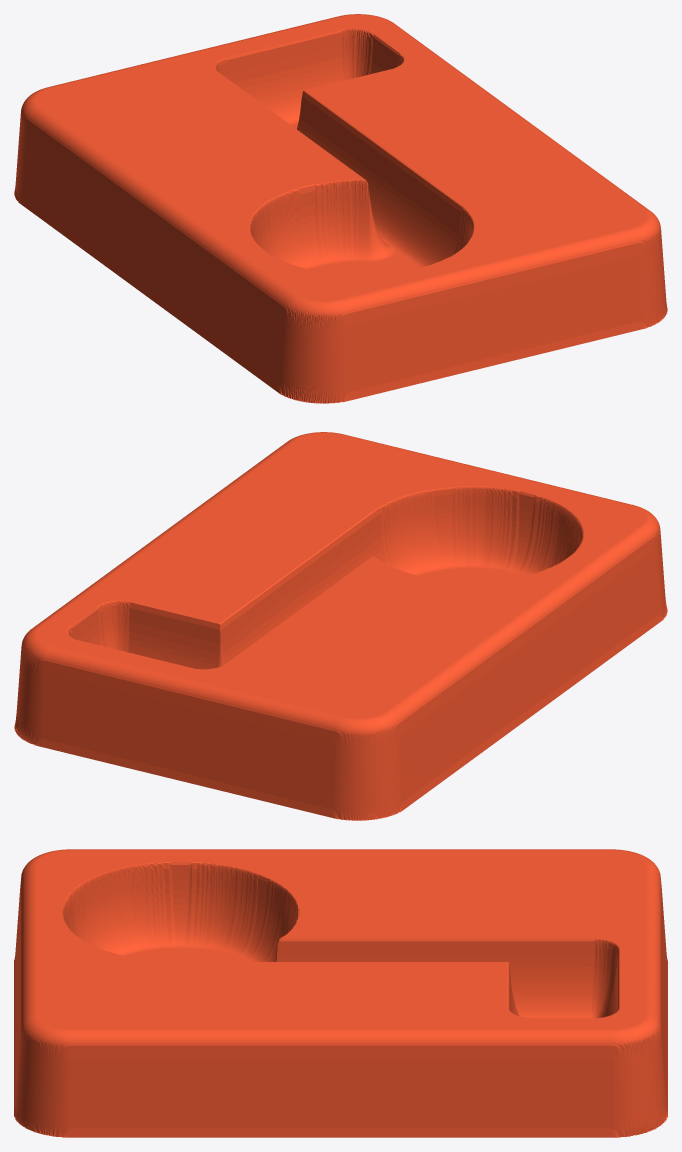
The model's file is mold.glb.
The picture shows the model from 3 angles, top to bottom: view 1: azimuth 30°, elevation 25°; view 2: azimuth 150°, elevation 25°; view 3: azimuth 270°, elevation 25°; orthographic projection. The views are drawn at different scales.
Visible parts, largest first — view 1: geometry_0; view 2: geometry_0; view 3: geometry_0.
Boxes of the visible parts, bbox=[...] form: geometry_0: bbox=[14, 14, 667, 403]; geometry_0: bbox=[14, 432, 667, 820]; geometry_0: bbox=[14, 849, 667, 1137].
Size of the model in its own units: 0.075 by 0.0175 by 0.105.
